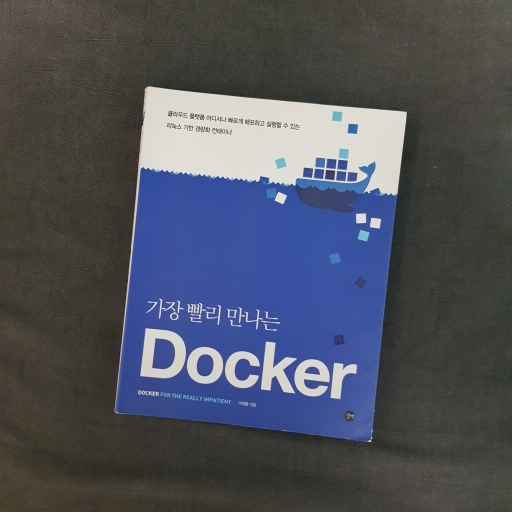Paper_0: (108, 81, 413, 449)
